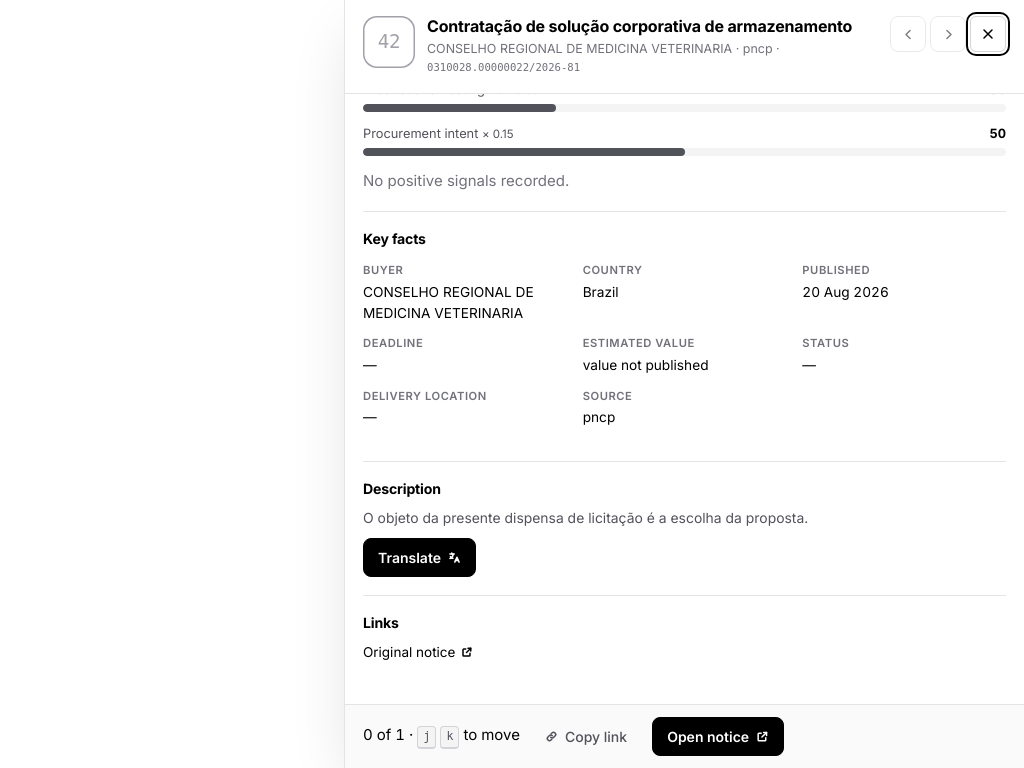
Scenario: pressing it › says "another language" when the API could not name the source
This screenshot has width=1024, height=768.
(page scrolled)
Click the button "Translate" at (420, 558), box [363,538,476,578]
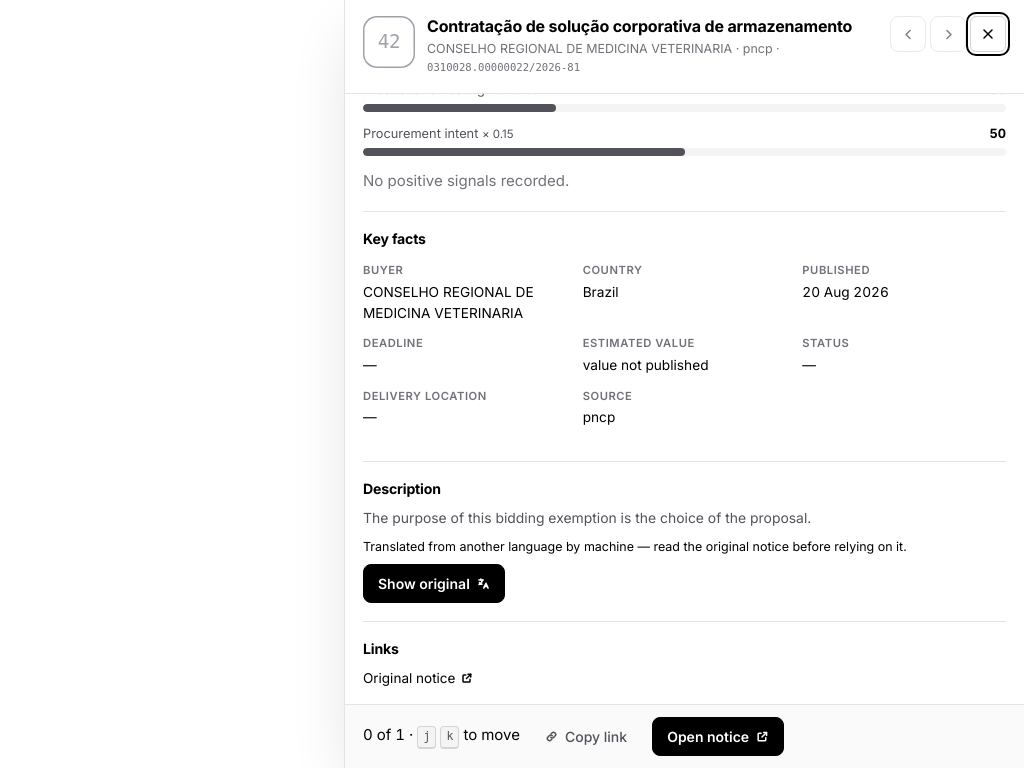
expect the text with class "translate__note" shows "Translated from another language by machine": met, box [363,540,907,554]
